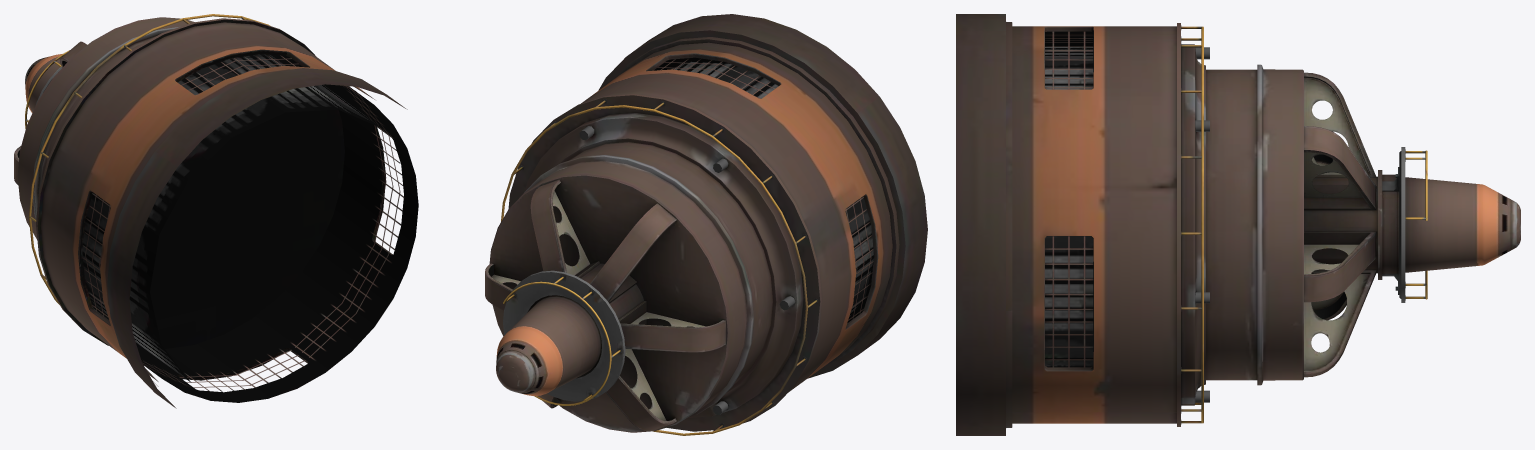
3 views of the same model, side by side, from view 1: azimuth 30°, elevation 25°; view 2: azimuth 150°, elevation 25°; view 3: azimuth 270°, elevation 25° (orthographic). The views are drawn at different scales.
Visible parts, largest first — view 1: body0_model0_lod0_mesh1, body0_model0_lod0_mesh0, body0_model0_lod0_mesh2; view 2: body0_model0_lod0_mesh0, body0_model0_lod0_mesh1, body0_model0_lod0_mesh2; view 3: body0_model0_lod0_mesh1, body0_model0_lod0_mesh0, body0_model0_lod0_mesh2.
Part boxes in pixels (x1,y1,x2,y2): body0_model0_lod0_mesh1: (28,14,418,408); body0_model0_lod0_mesh0: (14,17,194,239); body0_model0_lod0_mesh2: (82,54,406,392); body0_model0_lod0_mesh0: (485,113,803,432); body0_model0_lod0_mesh1: (501,14,927,435); body0_model0_lod0_mesh2: (657,58,873,320); body0_model0_lod0_mesh1: (956,14,1203,435); body0_model0_lod0_mesh0: (1181,44,1520,405); body0_model0_lod0_mesh2: (1045,31,1093,367).
Size of the model in its own units: 270 by 270 by 361.
3 materials, 3 textured.
